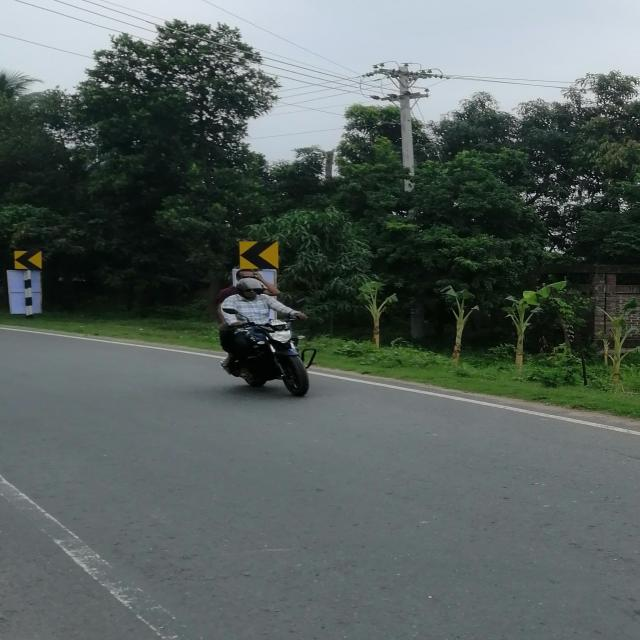Motorbike: (195, 299, 336, 397)
